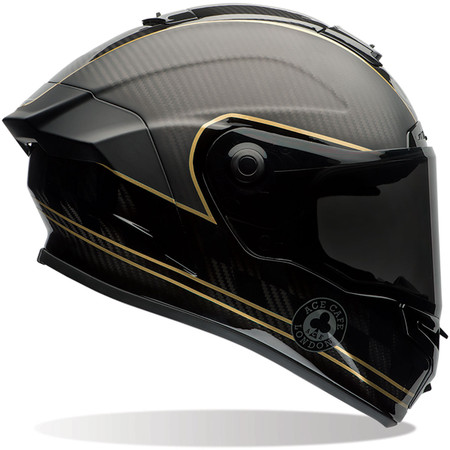with_helmet: (1, 2, 450, 432)
